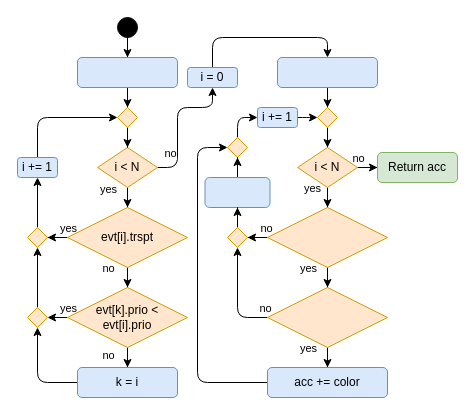
The diagram is 475 pixels wide and 415 high, and some of its shapes have lost their labels. Each missing label, with the box of its shape:
(i == k) or evt[i].trspt: (266, 206, 388, 268)
acc = (0,0,0): (276, 56, 378, 88)
evt[k].prio <= evt[i].prio: (266, 286, 388, 348)
i = 0 ; k = 0: (76, 56, 178, 88)
play background: (204, 176, 270, 208)
